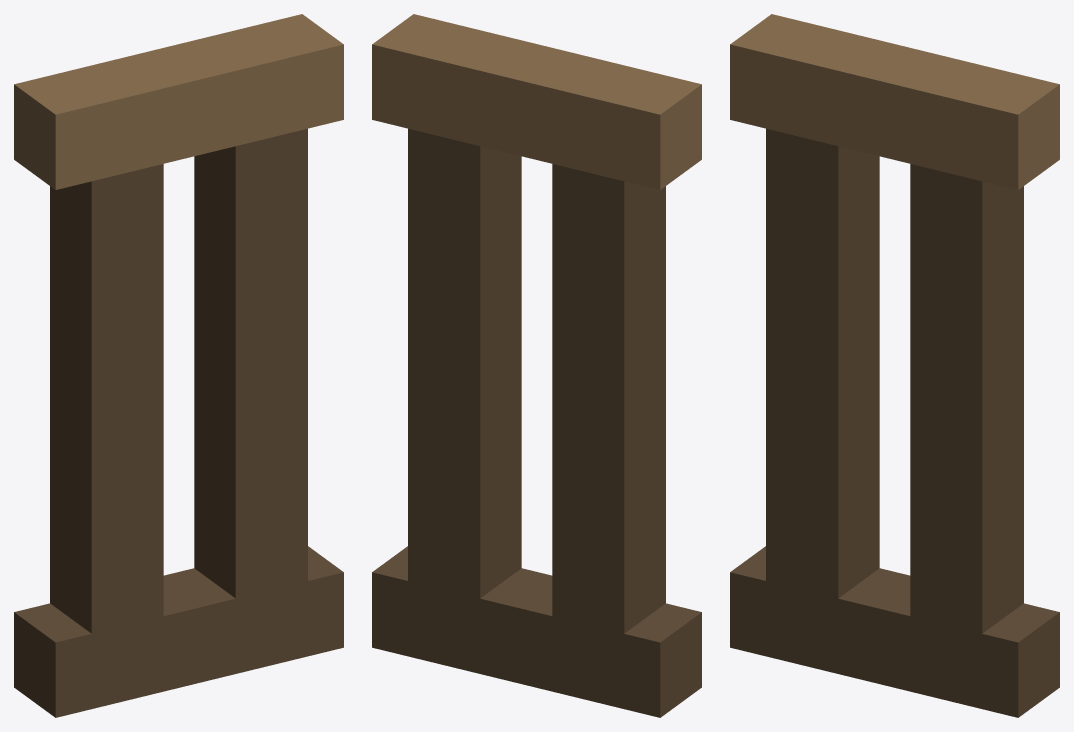
The model's file is sb03.rail.palette.glb.
3 views of the same model, side by side, from view 1: azimuth 30°, elevation 25°; view 2: azimuth 150°, elevation 25°; view 3: azimuth 330°, elevation 25° (orthographic).
Visible parts, largest first — view 1: VW.slat.left.001, VW.slat.right.001, VW.upper.001, VW.lower.001; view 2: VW.slat.left.001, VW.slat.right.001, VW.upper.001, VW.lower.001; view 3: VW.slat.right.001, VW.slat.left.001, VW.upper.001, VW.lower.001.
Boxes of the visible parts, bbox=[...] form: VW.slat.left.001: bbox=[50, 164, 163, 633]; VW.slat.right.001: bbox=[194, 128, 307, 598]; VW.upper.001: bbox=[14, 14, 343, 189]; VW.lower.001: bbox=[14, 546, 343, 717]; VW.slat.left.001: bbox=[552, 164, 665, 633]; VW.slat.right.001: bbox=[408, 128, 521, 598]; VW.upper.001: bbox=[372, 14, 701, 189]; VW.lower.001: bbox=[372, 546, 701, 717]; VW.slat.right.001: bbox=[910, 164, 1023, 633]; VW.slat.left.001: bbox=[766, 128, 879, 598]; VW.upper.001: bbox=[730, 14, 1059, 189]; VW.lower.001: bbox=[730, 546, 1059, 717].
Size of the model in its own units: 0.5 by 1 by 0.125.
Materials: 2 (2 with a texture image).
